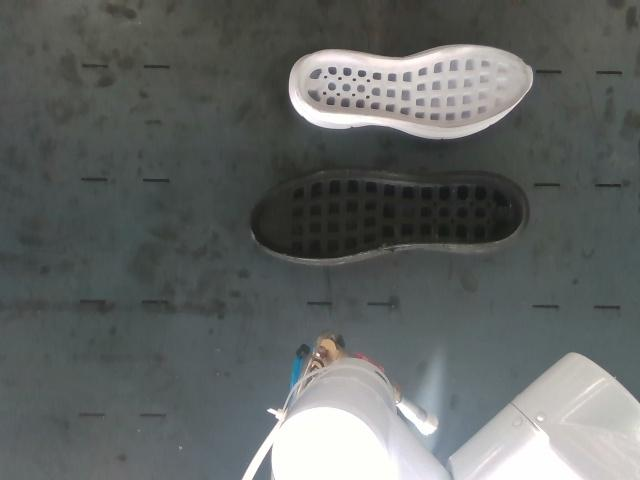shoes: (250, 169, 523, 260), (297, 45, 532, 128)
